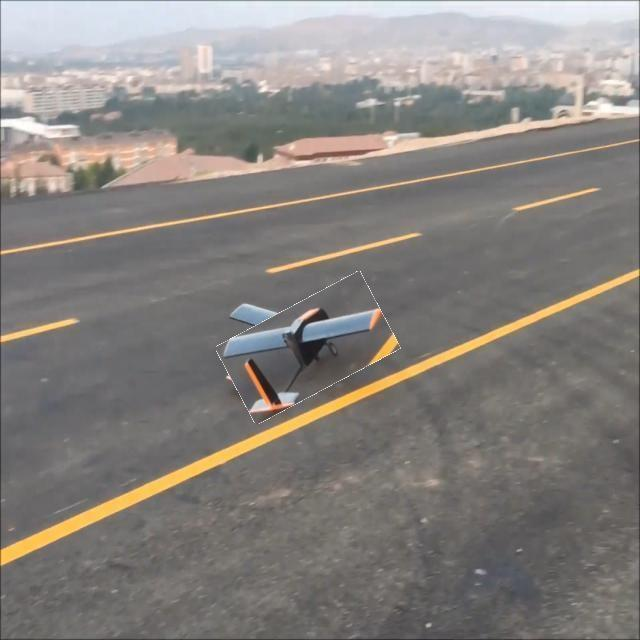Airplane: (216, 271, 402, 427)
